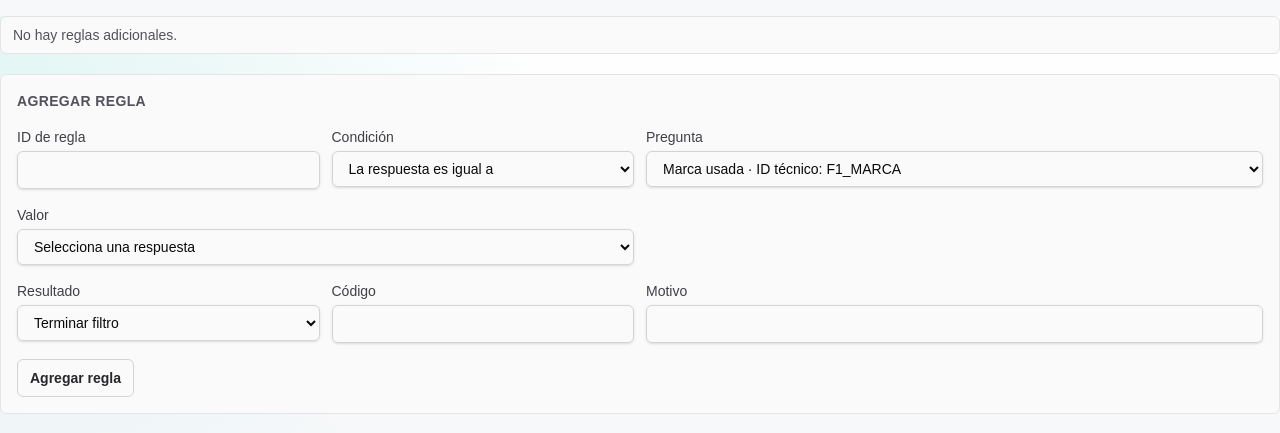
it: RuleGuidedForm › muestra solo mínimo y máximo para condición de rango
Select "El número está dentro del rango" in the dropdown labelled "Condición" at point(483, 169), box [332,151,634,187]
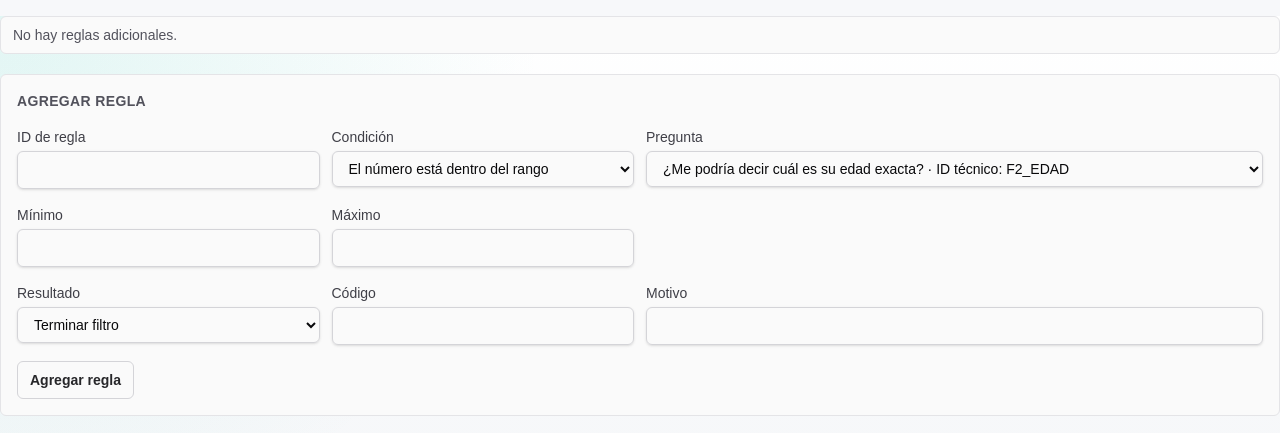
Result: the number field labelled "Mínimo" is shown at [17,229,320,267]
Result: the number field labelled "Máximo" is shown at [332,229,634,267]
Result: the label labelled "Valor" is gone
